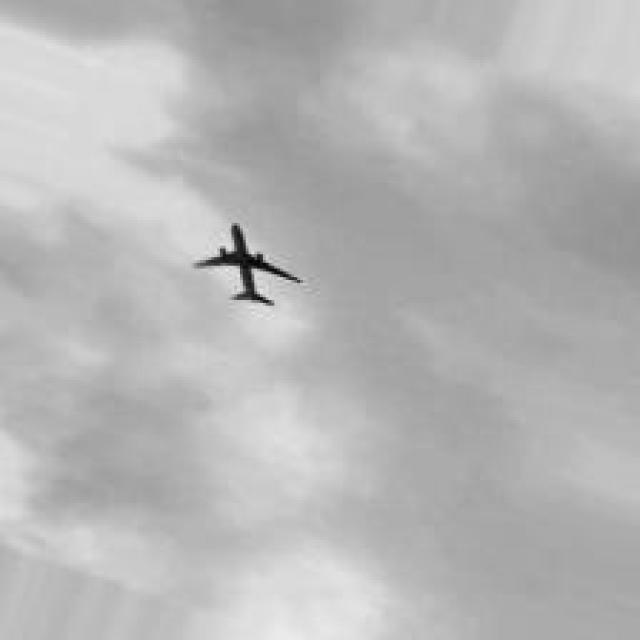aeroplane: (188, 220, 308, 312)
